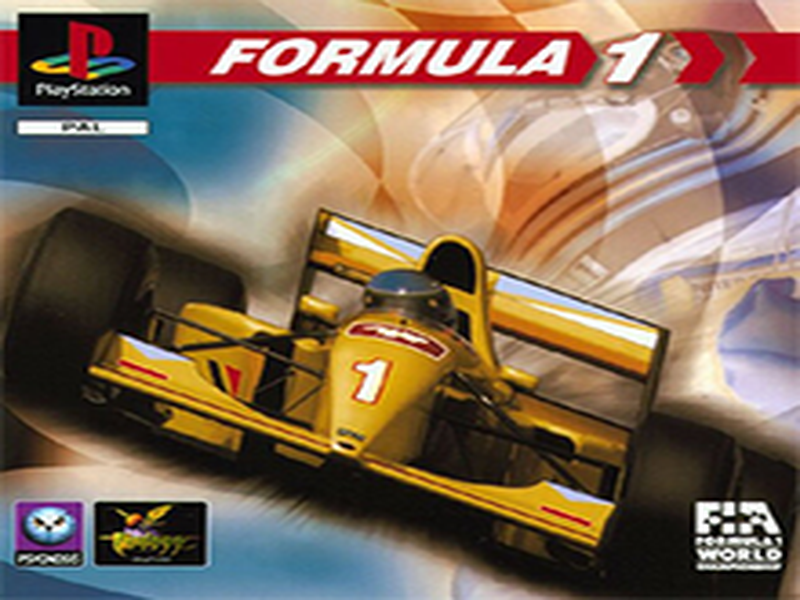f1: (111, 165, 662, 551)
